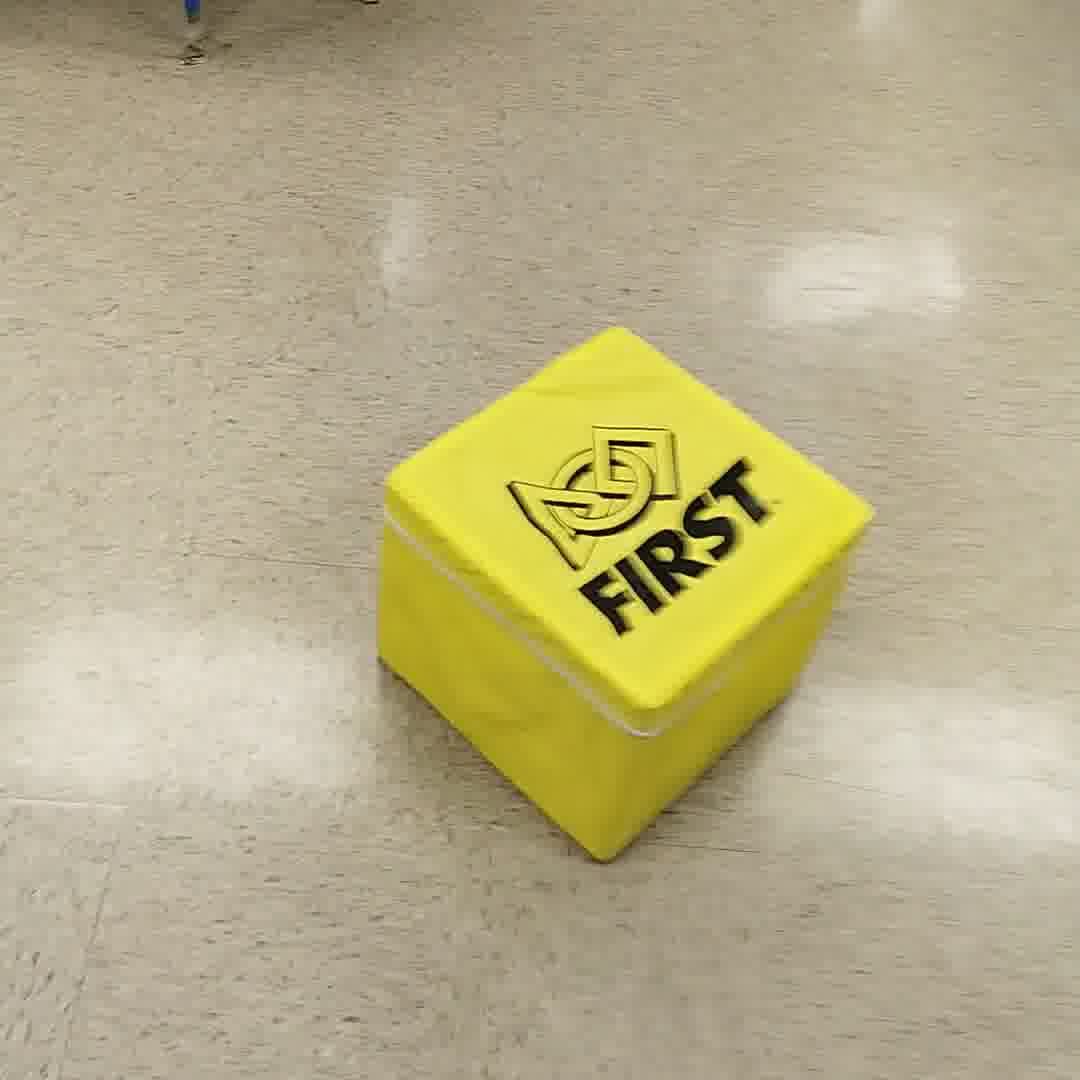box: (377, 340, 887, 853)
